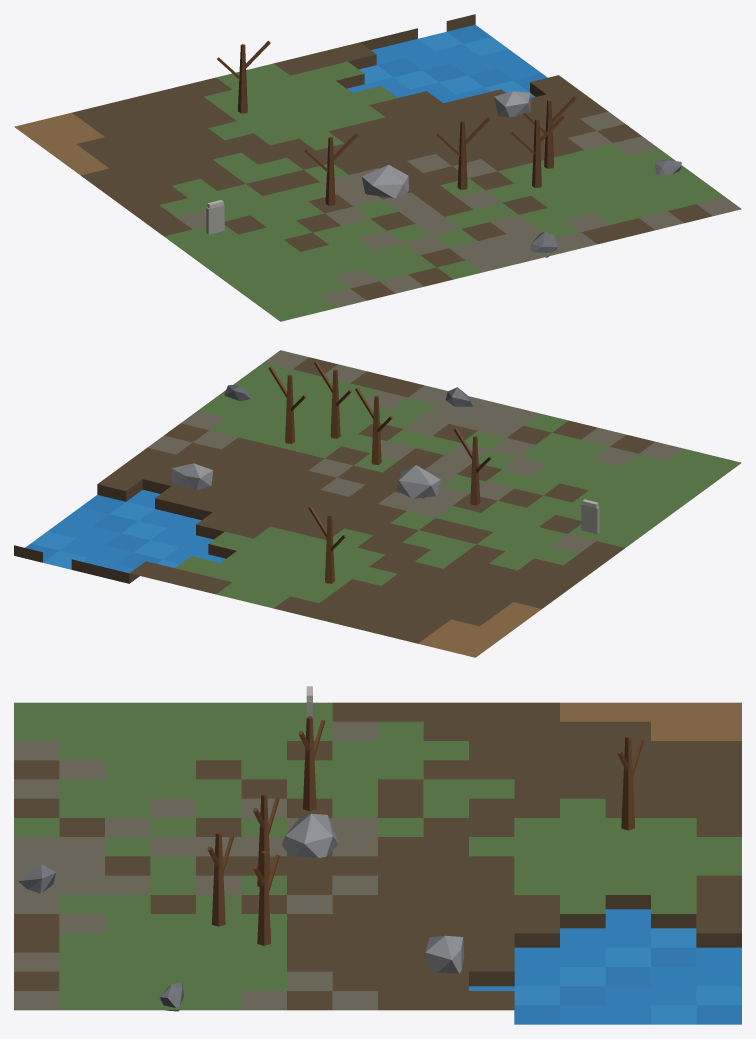
Rendered from chunk_2_18.glb.
3 renders of one model, top to bottom at view 1: azimuth 30°, elevation 25°; view 2: azimuth 150°, elevation 25°; view 3: azimuth 270°, elevation 25°, orthographic. The views are drawn at different scales.
Visible parts, largest first — view 1: chunk_2_18; view 2: chunk_2_18; view 3: chunk_2_18.
Boxes of the visible parts, x1,y1,x2,y2 form: chunk_2_18: [14, 14, 741, 321]; chunk_2_18: [14, 350, 741, 657]; chunk_2_18: [14, 686, 741, 1024].
Bounding box in the file's own units: 16 × 2.64 × 16.
